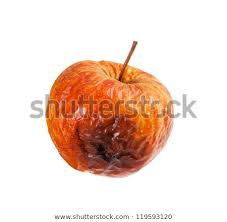damaged_apple: (47, 58, 178, 183)
